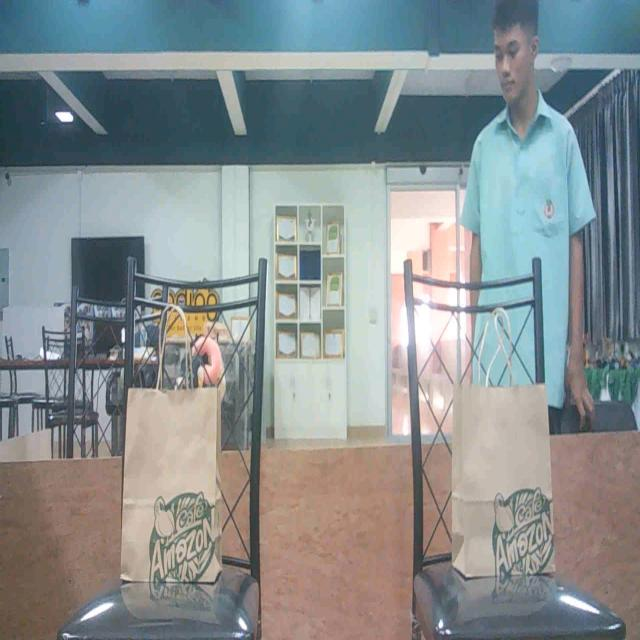bag: (125, 390, 221, 586), (455, 390, 555, 577)
